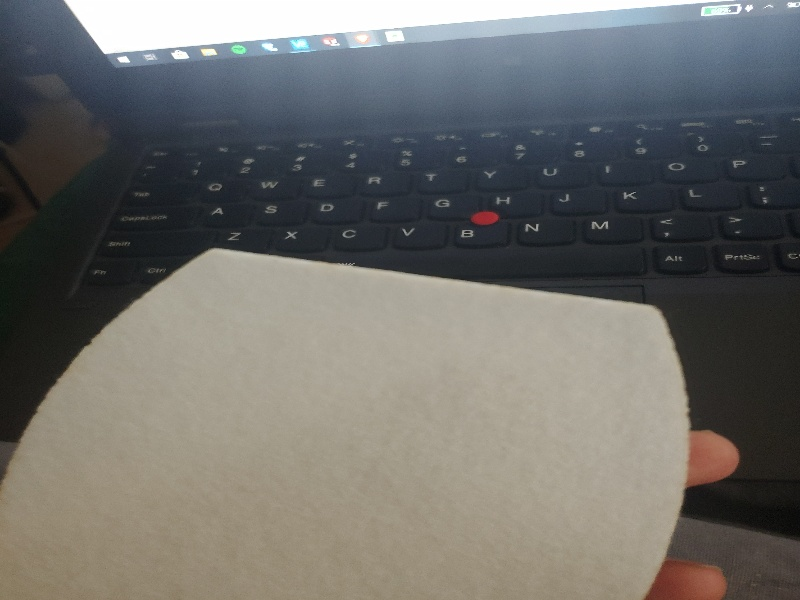Filter: (1, 249, 692, 598)
